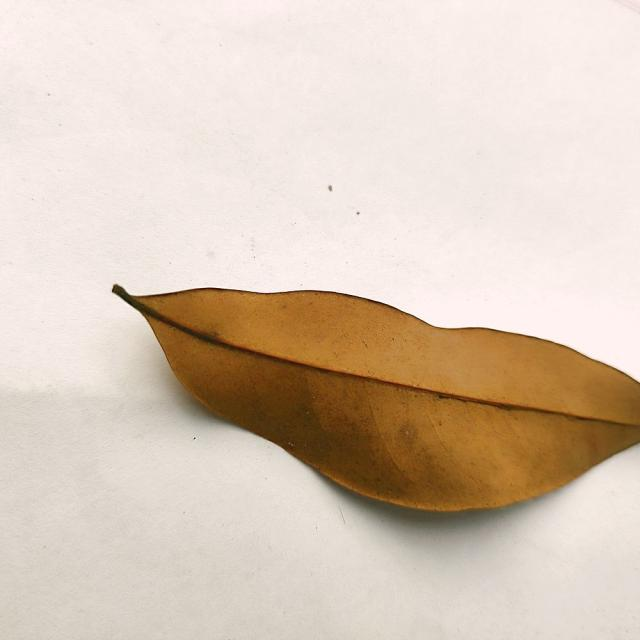Dry_Leaf-Lychee: (111, 287, 639, 516)
